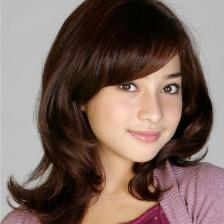Non hijab: (8, 0, 214, 224)
